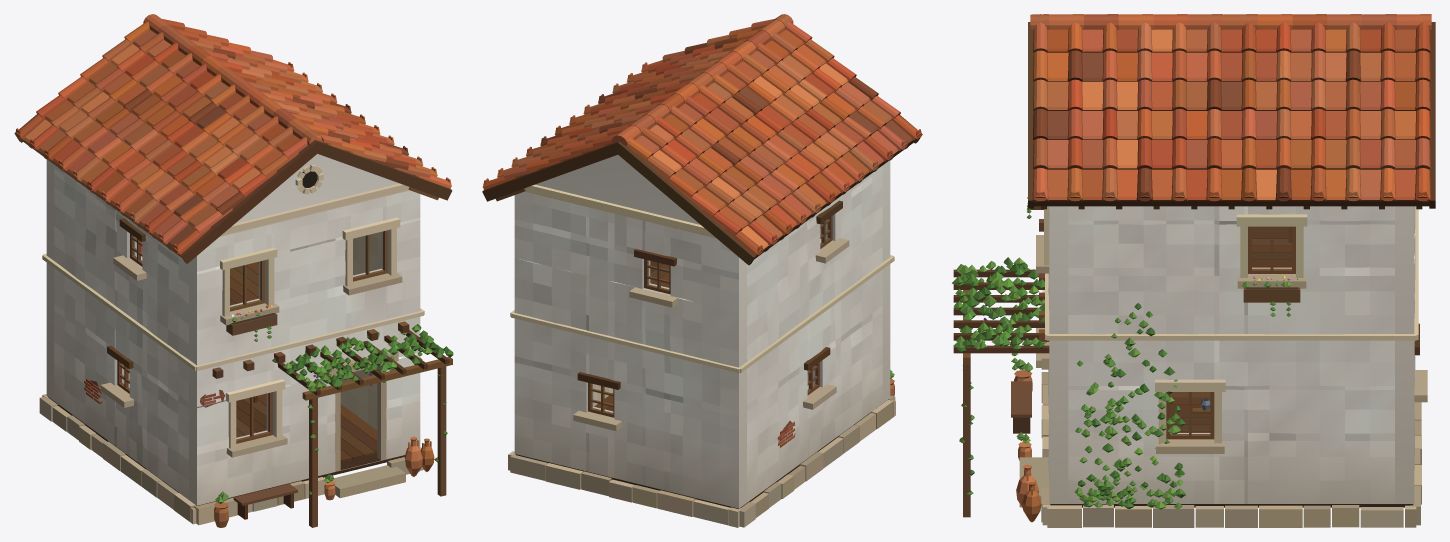
Rendered from pleb_4_2.glb.
The picture shows the model from 3 angles, left to right: view 1: azimuth 30°, elevation 25°; view 2: azimuth 150°, elevation 25°; view 3: azimuth 270°, elevation 25°; orthographic projection. The views are drawn at different scales.
Parts seen in each view (by area): view 1: House, Walls, Rooms; view 2: Walls, House, Rooms; view 3: House, Walls, Rooms.
Boxes of the visible parts, x1,y1,x2,y2 form: House: [14, 14, 453, 527]; Walls: [46, 154, 420, 505]; Rooms: [128, 232, 381, 461]; Walls: [514, 155, 890, 508]; House: [482, 14, 922, 527]; Rooms: [594, 224, 821, 411]; House: [952, 14, 1435, 527]; Walls: [1048, 206, 1415, 503]; Rooms: [1170, 226, 1291, 432].
Bounding box in the file's own units: 4.44 × 5.63 × 5.57.
3 materials, 3 textured.
